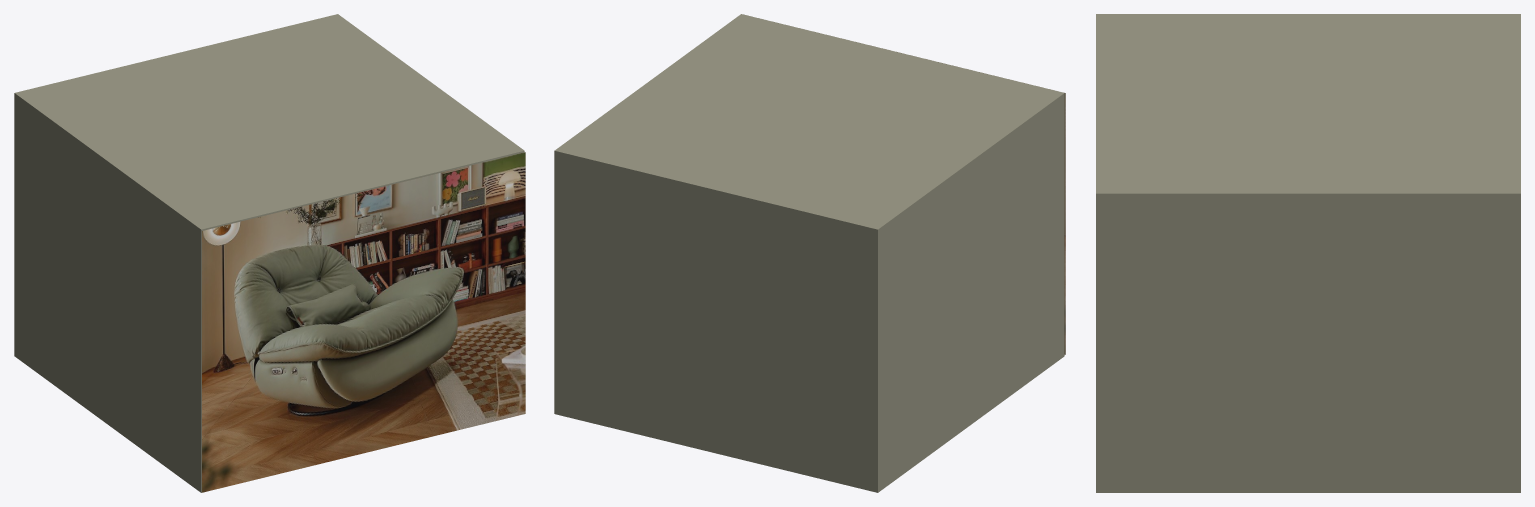
File: mocan-62.glb
3 views of the same model, side by side, from view 1: azimuth 30°, elevation 25°; view 2: azimuth 150°, elevation 25°; view 3: azimuth 270°, elevation 25° (orthographic). The views are drawn at different scales.
Visible parts, largest first — view 1: furniture; view 2: furniture; view 3: furniture.
Part boxes in pixels (bbox=[...]): furniture: bbox=[14, 14, 525, 492]; furniture: bbox=[554, 14, 1065, 492]; furniture: bbox=[1096, 14, 1520, 492].
Size of the model in its own units: 0.9 by 0.7 by 0.904.
2 materials, 1 textured.
